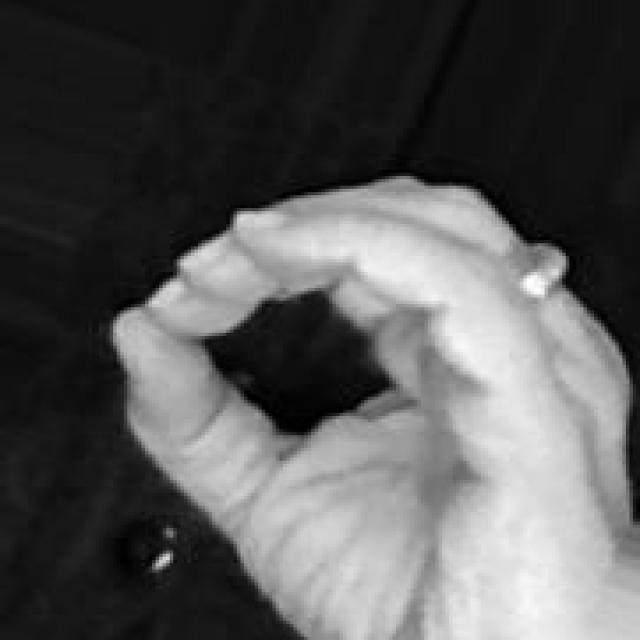O: (102, 166, 640, 639)
